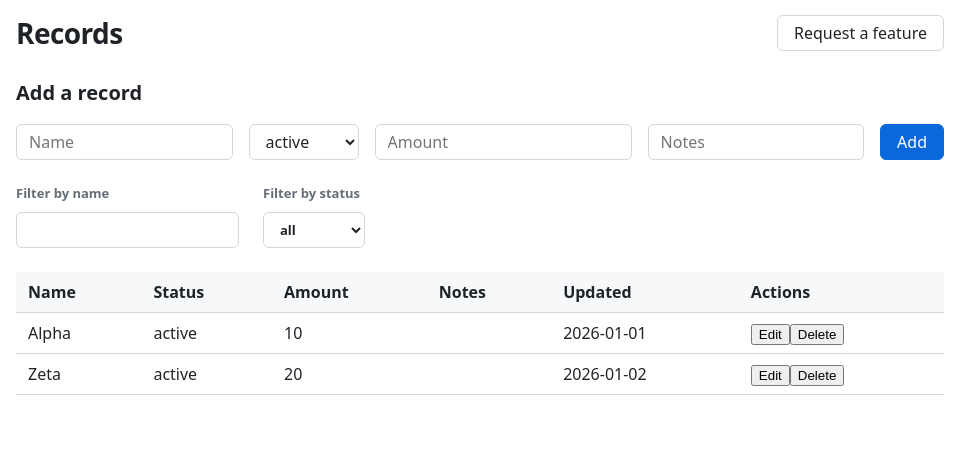
Test case: DAN-28 tester · created row honors active filter and sort › a created row lands in its sorted position, not merely appended
The image size is (961, 453).
expect the text "Alpha" is shown: met, box x1=16 y1=312 x2=141 y2=353
Sort ascending by name.
Click the button "Name": (52, 292) x1=28 y1=280 x2=76 y2=304
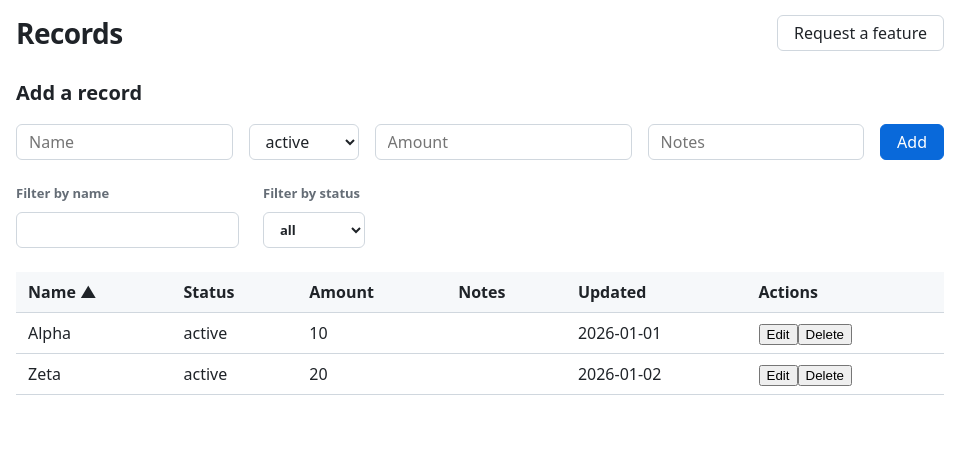
Create Mango — it must sort between Alpha and Zeta, not append after them.
In the field named "New name": (124, 142) x1=16 y1=124 x2=232 y2=160, type "Mango"
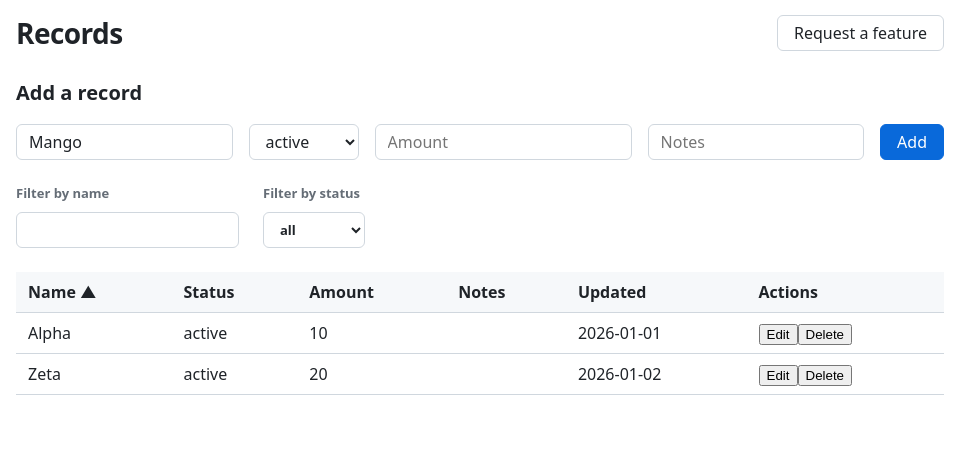
In the number field named "New amount": (503, 142) x1=374 y1=124 x2=632 y2=160, type "15"
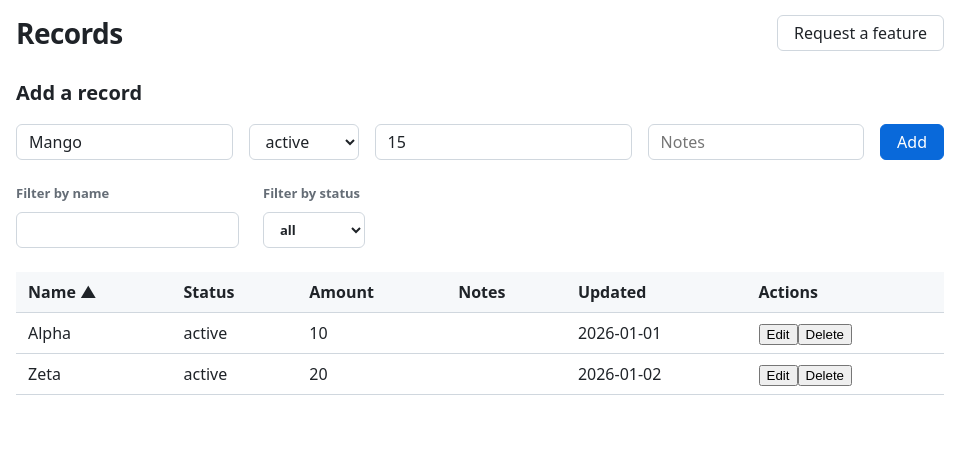
Click the button "Add": (912, 142) x1=880 y1=124 x2=944 y2=160
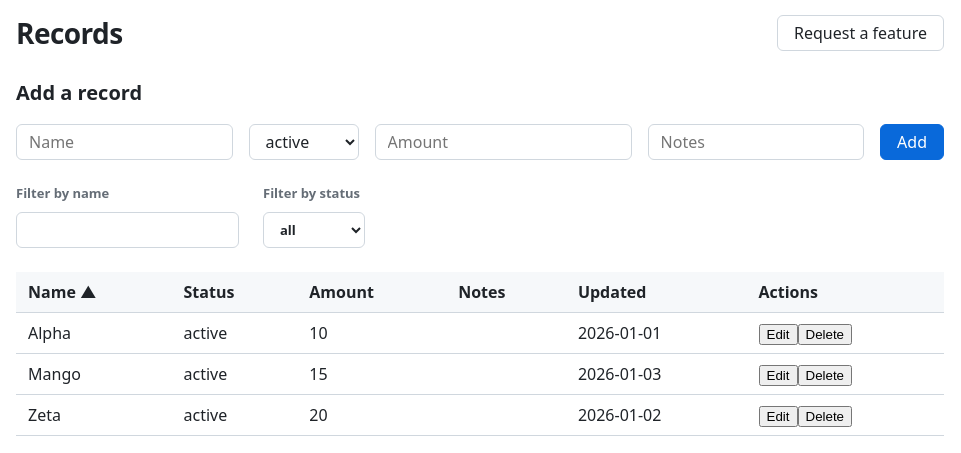
expect the text "Mango" is shown: met, box x1=16 y1=353 x2=172 y2=394
